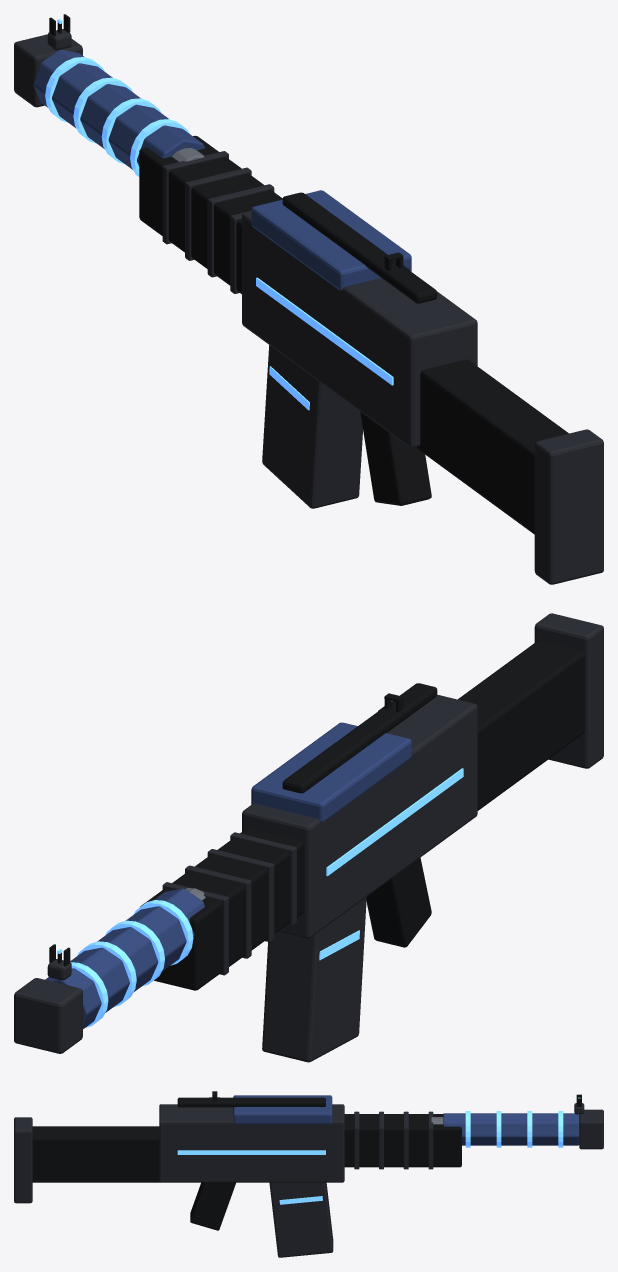
File: autosg.glb
The picture shows the model from 3 angles, top to bottom: view 1: azimuth 30°, elevation 25°; view 2: azimuth 150°, elevation 25°; view 3: azimuth 270°, elevation 25°; orthographic projection. The views are drawn at different scales.
Parts seen in each view (by area): view 1: Body, Magazine, IronSights; view 2: Body, Magazine, IronSights; view 3: Body, Magazine, IronSights.
Boxes of the visible parts, bbox=[...] form: Body: bbox=[14, 34, 603, 584]; Magazine: bbox=[262, 345, 362, 508]; IronSights: bbox=[47, 14, 409, 270]; Body: bbox=[14, 613, 603, 1053]; Magazine: bbox=[262, 897, 366, 1062]; IronSights: bbox=[47, 693, 409, 980]; Body: bbox=[14, 1095, 603, 1230]; Magazine: bbox=[269, 1182, 333, 1257]; IronSights: bbox=[209, 1091, 584, 1114].
Bounding box in the file's own units: 0.074 × 0.284 × 0.955.
